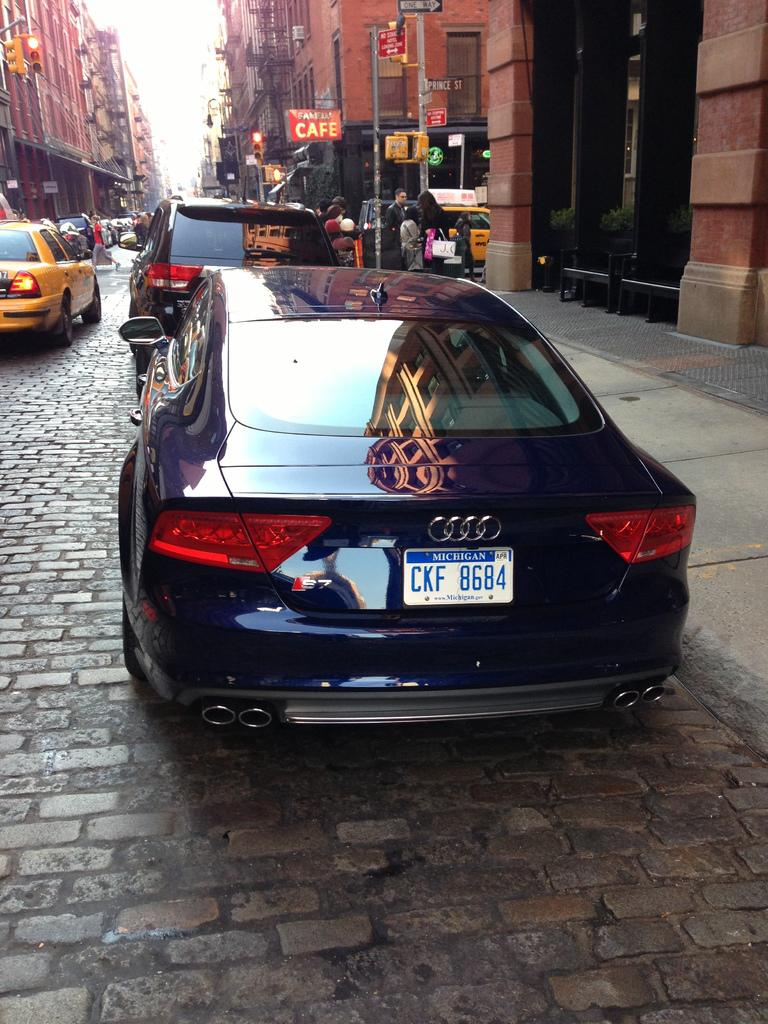taxi: (1, 220, 102, 347)
